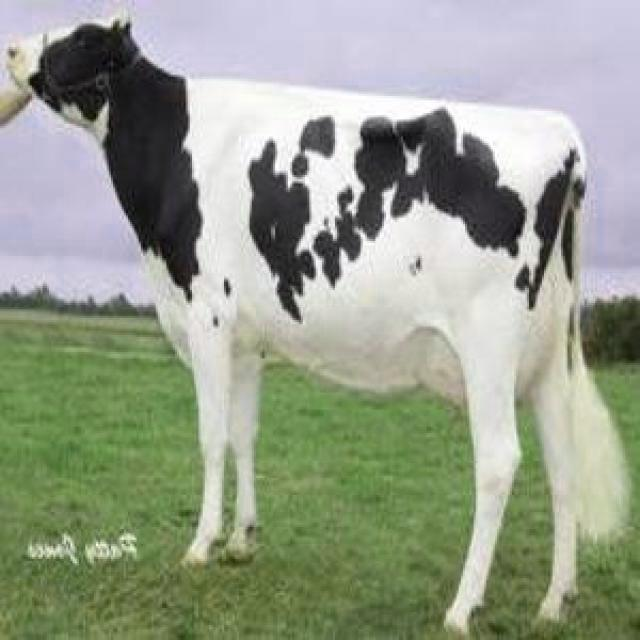cow: (0, 22, 628, 631)
